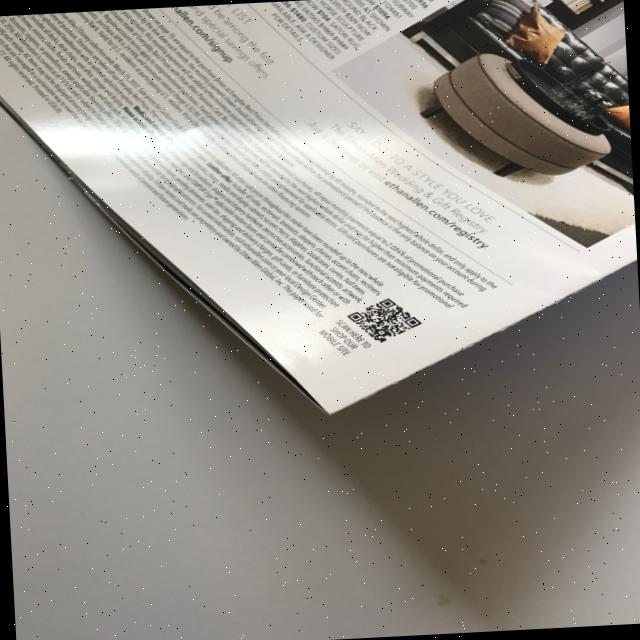paper: (0, 0, 640, 433)
